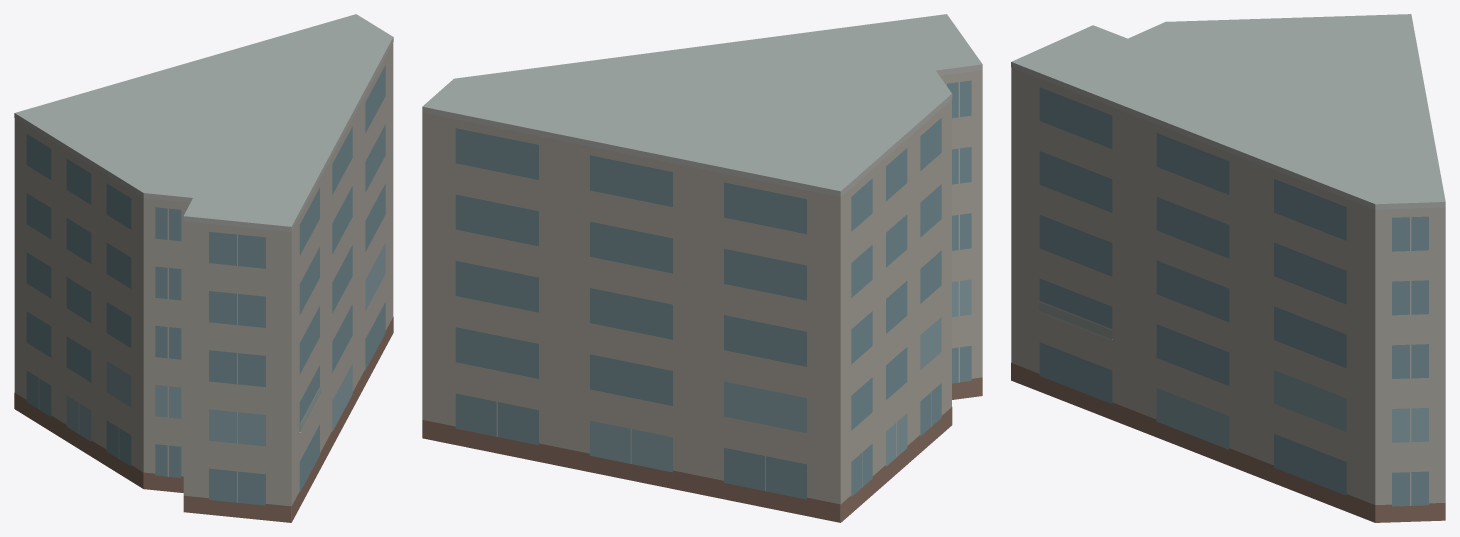
File: survey-upis-33040934.glb
3 views of the same model, side by side, from view 1: azimuth 30°, elevation 25°; view 2: azimuth 150°, elevation 25°; view 3: azimuth 270°, elevation 25° (orthographic). The views are drawn at different scales.
Parts seen in each view (by area): view 1: survey-upis-33040934.tmp; view 2: survey-upis-33040934.tmp; view 3: survey-upis-33040934.tmp.
Part boxes in pixels (bbox=[...]): survey-upis-33040934.tmp: bbox=[14, 14, 393, 522]; survey-upis-33040934.tmp: bbox=[422, 14, 982, 522]; survey-upis-33040934.tmp: bbox=[1011, 14, 1445, 522].
Size of the model in its own units: 18.06 by 14.1 by 17.44.
